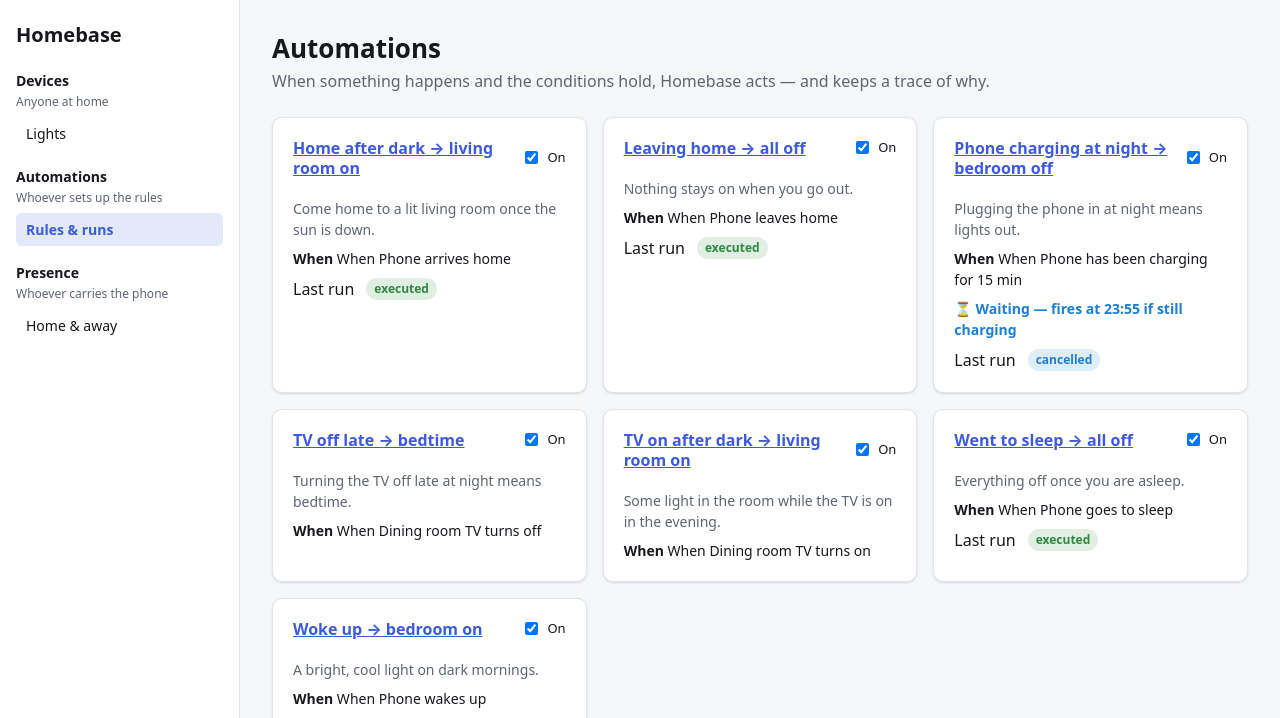
Test: AutomationsPage › shows a waiting countdown, and disabling the automation stops it
Check: the text "⏳ Waiting — fires at 23:55 if still charging" is shown, box top-left (954, 298), bottom-right (1183, 338)
Click the checkbox named "Enable Phone charging at night → bedroom off" at (1193, 158), box top-left (1187, 151), bottom-right (1200, 164)
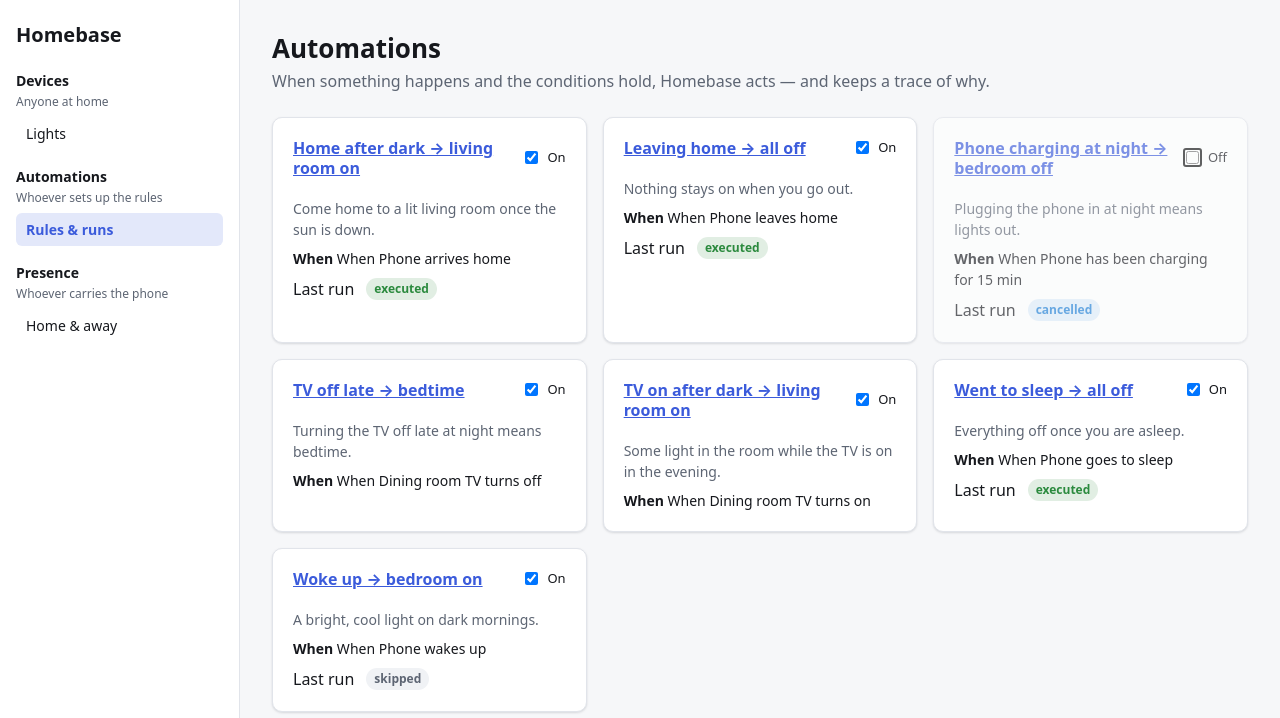
Check: the text "Waiting — fires at" is gone
